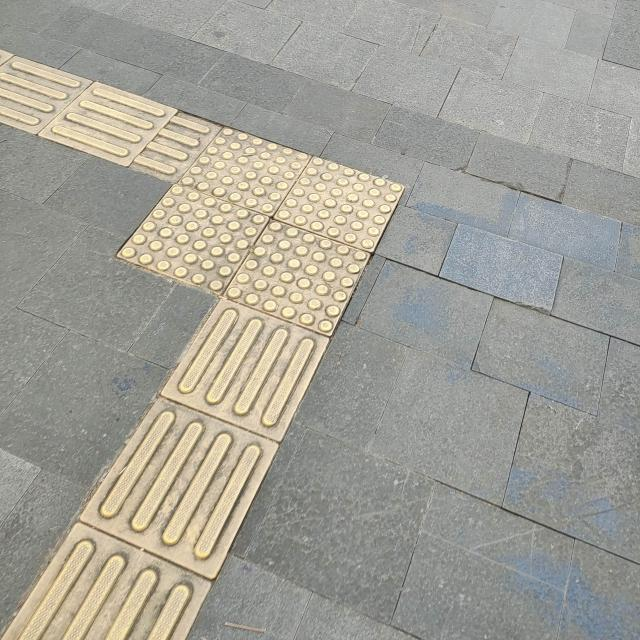kiri: (42, 34, 434, 432)
